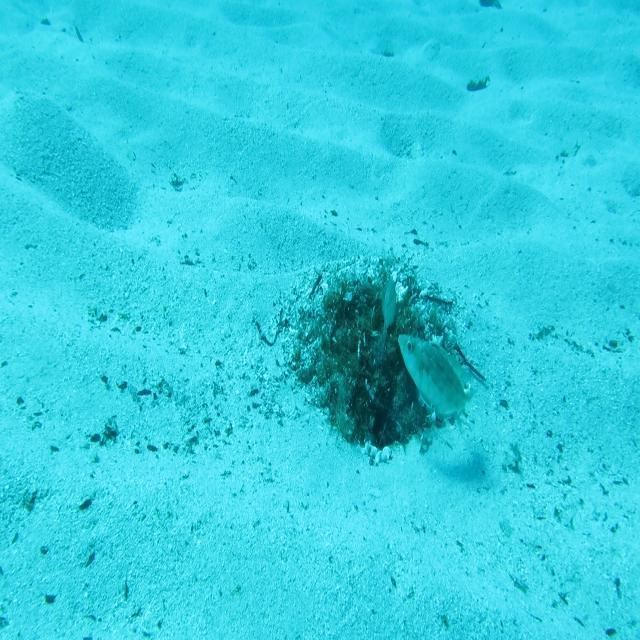GB: (397, 331, 473, 431)
core_nest: (348, 296, 394, 345)
female: (377, 276, 398, 356)
nest: (265, 248, 475, 489)
vegetation: (467, 73, 488, 95), (477, 0, 504, 12)
